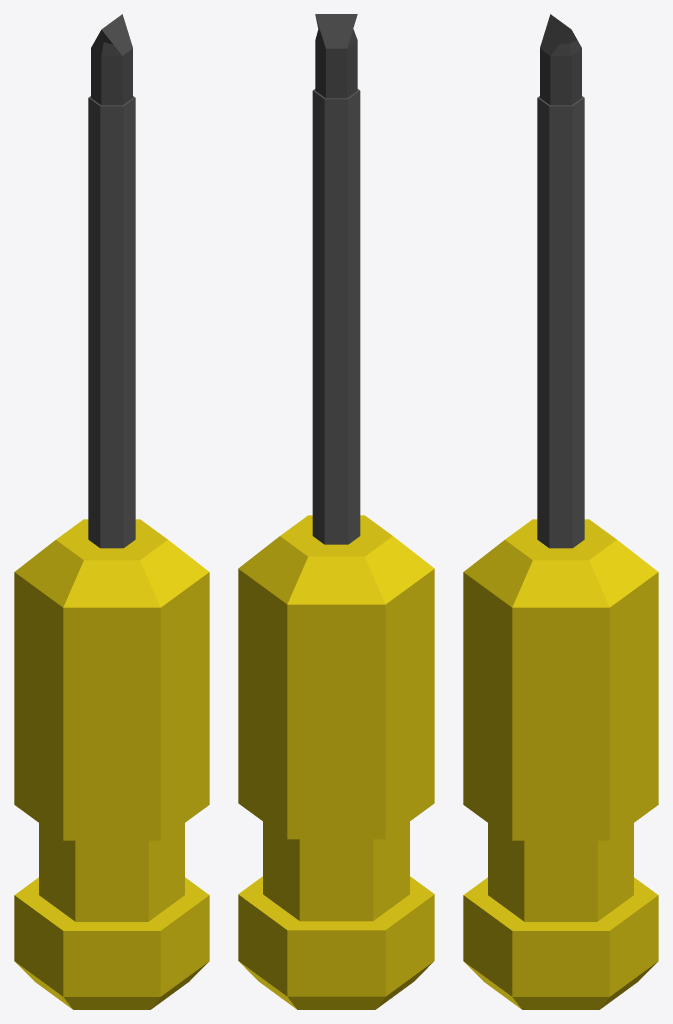
Rendered from Desarmador.fbx.
The picture shows the model from 3 angles, left to right: view 1: azimuth 30°, elevation 25°; view 2: azimuth 150°, elevation 25°; view 3: azimuth 270°, elevation 25°; orthographic projection.
Visible parts, largest first — view 1: Circle; view 2: Circle; view 3: Circle.
Part boxes in pixels (x1,y1,x2,y2): Circle: [14, 14, 209, 1009]; Circle: [238, 14, 434, 1009]; Circle: [463, 14, 658, 1009].
Size of the model in its own units: 173 by 1086 by 200.
